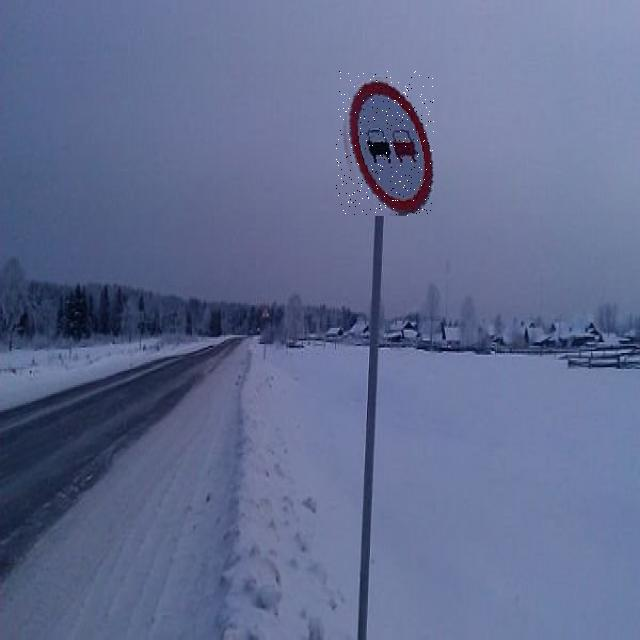no overtaking: (336, 71, 434, 216)
